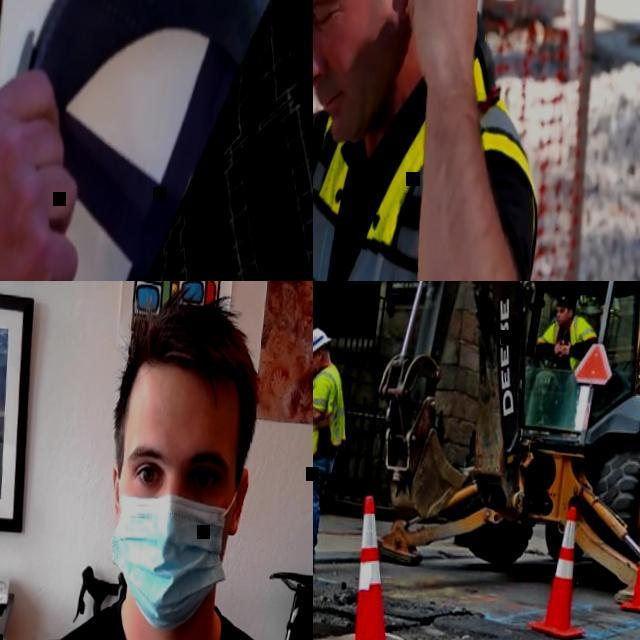helmet: (0, 0, 297, 281), (313, 327, 331, 357)
vest: (313, 31, 548, 281), (313, 362, 349, 458), (544, 316, 588, 371)
